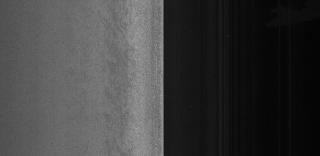silk spot: (106, 59, 136, 109)
